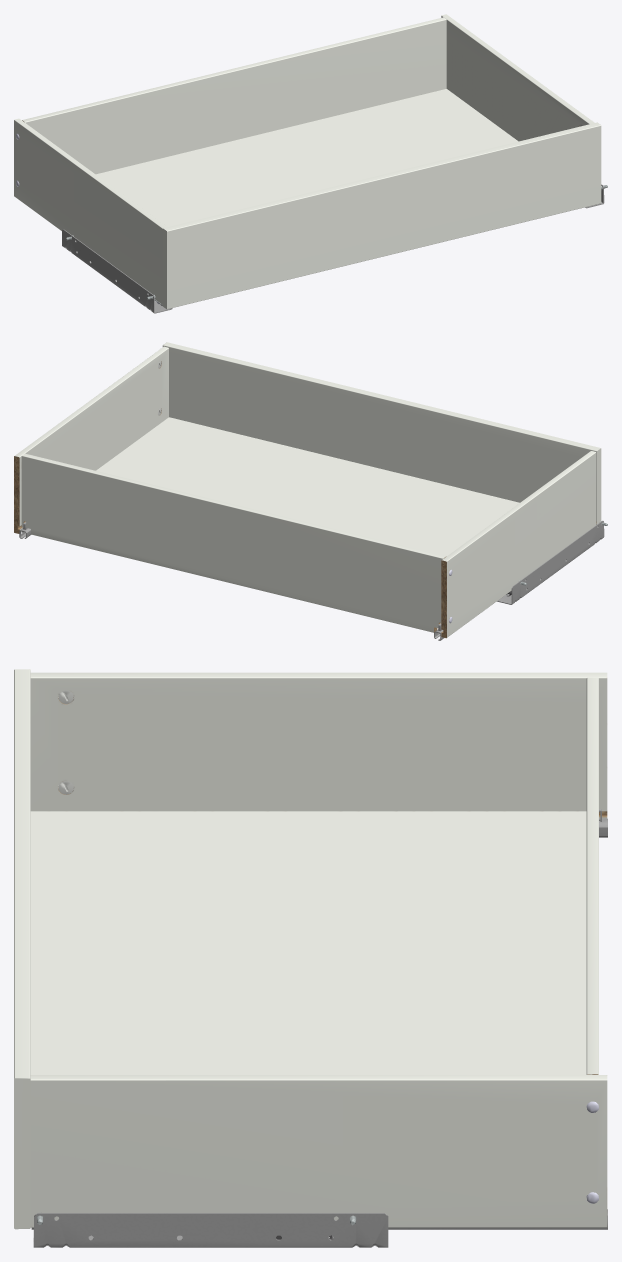
Rendered from 09 - KOMPLEMENT Drawer - white 100x58 cm.glb.
3 renders of one model, top to bottom at view 1: azimuth 30°, elevation 25°; view 2: azimuth 150°, elevation 25°; view 3: azimuth 270°, elevation 25°, orthographic. The views are drawn at different scales.
Visible parts, largest first — view 1: model; view 2: model; view 3: model.
Part boxes in pixels (<box>): model: <box>14,14,607,313</box>; model: <box>14,342,607,640</box>; model: <box>14,669,607,1247</box>.
Bounding box in the file's own units: 0.9823 × 0.1738 × 0.5695.
1 material, 1 textured.
